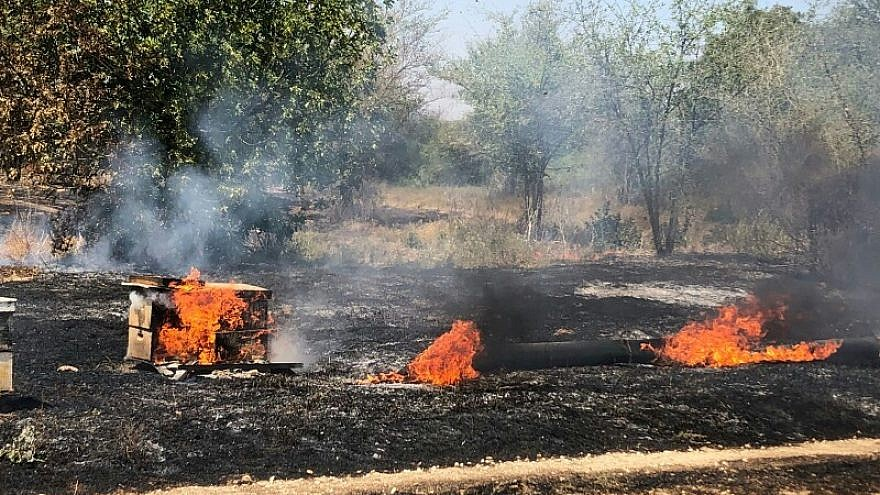fire: (645, 300, 842, 383), (150, 272, 283, 375), (371, 318, 489, 387)
